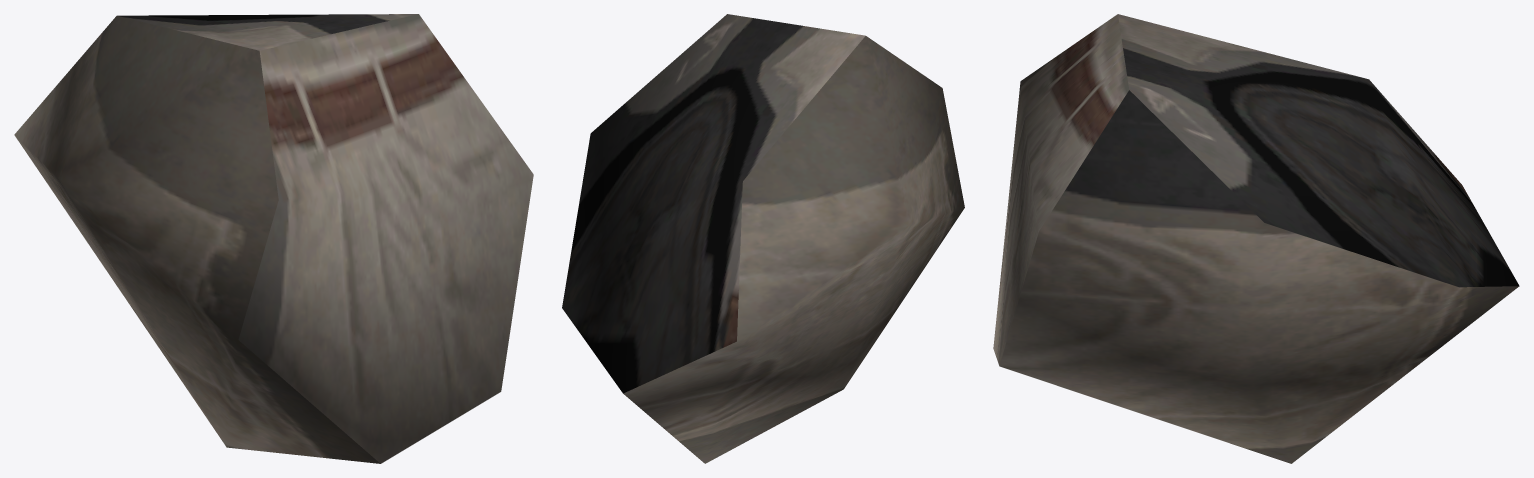
Rendered from dest_nt_nuked_male_01_head_LOD3.obj.
3 views of the same model, side by side, from view 1: azimuth 30°, elevation 25°; view 2: azimuth 150°, elevation 25°; view 3: azimuth 270°, elevation 25° (orthographic). The views are drawn at different scales.
Parts seen in each view (by area): view 1: mtl_nt_2020_manne_male01_pants1; view 2: mtl_nt_2020_manne_male01_pants1; view 3: mtl_nt_2020_manne_male01_pants1.
Part boxes in pixels (x1,y1,x2,y2): mtl_nt_2020_manne_male01_pants1: (14,14,533,463); mtl_nt_2020_manne_male01_pants1: (562,14,964,463); mtl_nt_2020_manne_male01_pants1: (993,14,1519,463).
Size of the model in its own units: 19.06 by 23 by 26.8.
